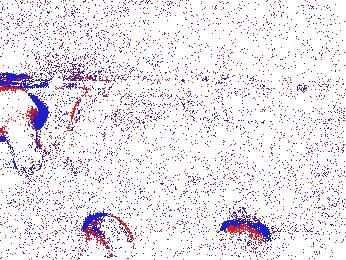flame jellyfish: (1, 82, 49, 178), (219, 206, 281, 260), (74, 212, 136, 260)
